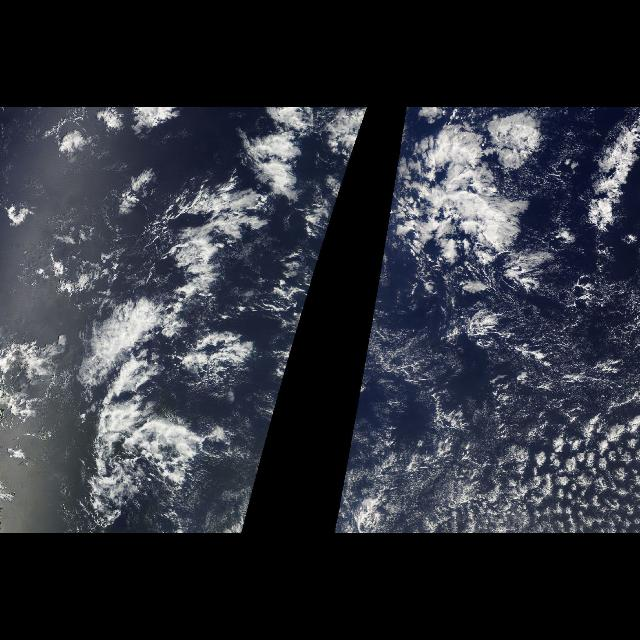Fish: (83, 197, 299, 533)
Flower: (524, 413, 640, 533)
Gravel: (358, 268, 574, 474)
Sugar: (349, 314, 521, 446)
